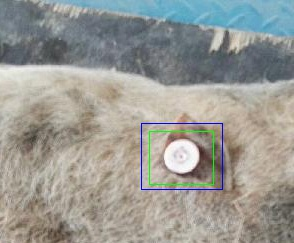text: (149, 131, 213, 184)
